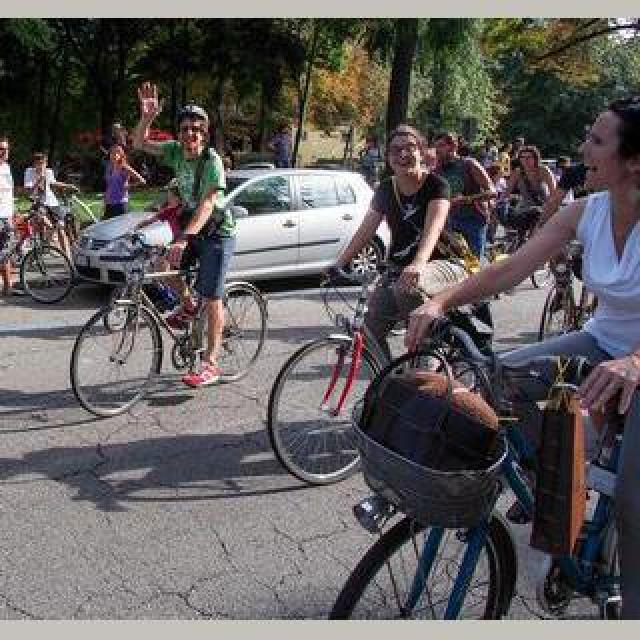Bus-Bike: (214, 168, 378, 284), (226, 160, 280, 188)
MC-Bike: (128, 104, 236, 384), (556, 96, 638, 366), (352, 128, 472, 290), (504, 140, 556, 248), (100, 144, 146, 218), (268, 122, 292, 170)
Person: (324, 340, 626, 618), (268, 264, 508, 486), (68, 224, 270, 418), (538, 246, 596, 342)
